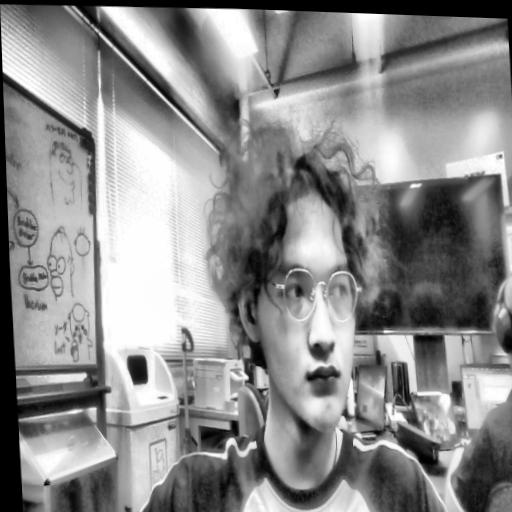Daifuku: (193, 112, 397, 459)
Not Daifuku: (485, 267, 512, 383)
